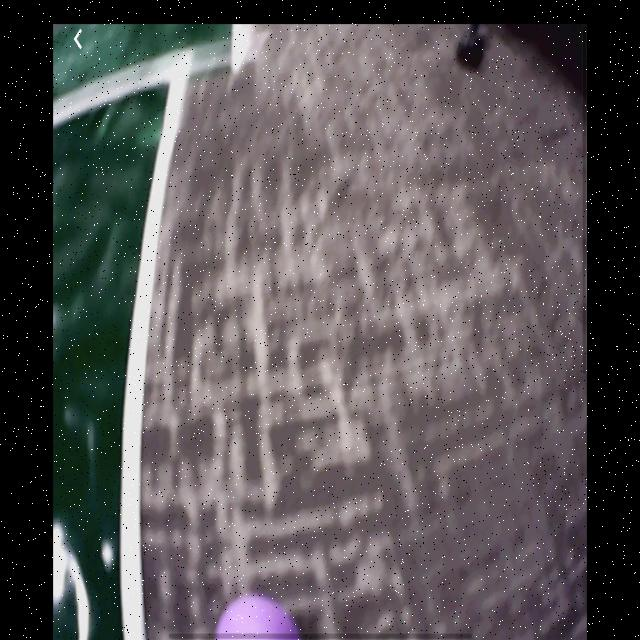ball: (214, 593, 302, 639)
